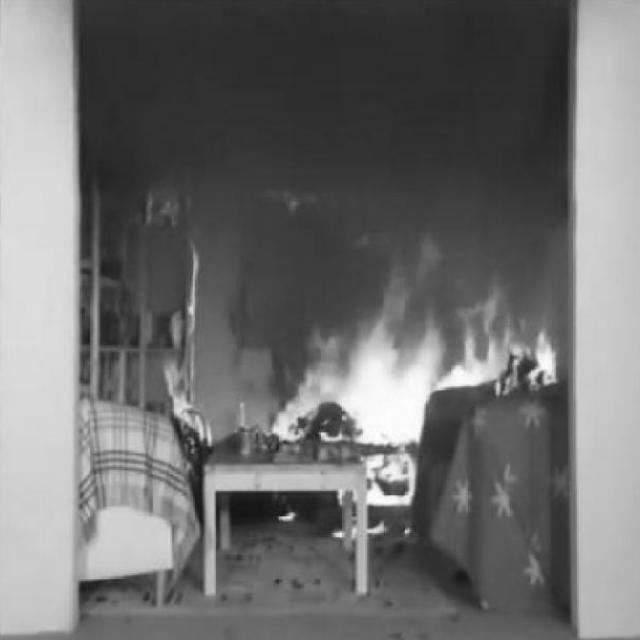fire: (235, 0, 570, 313)
smoke: (271, 267, 564, 506), (140, 177, 194, 233)
